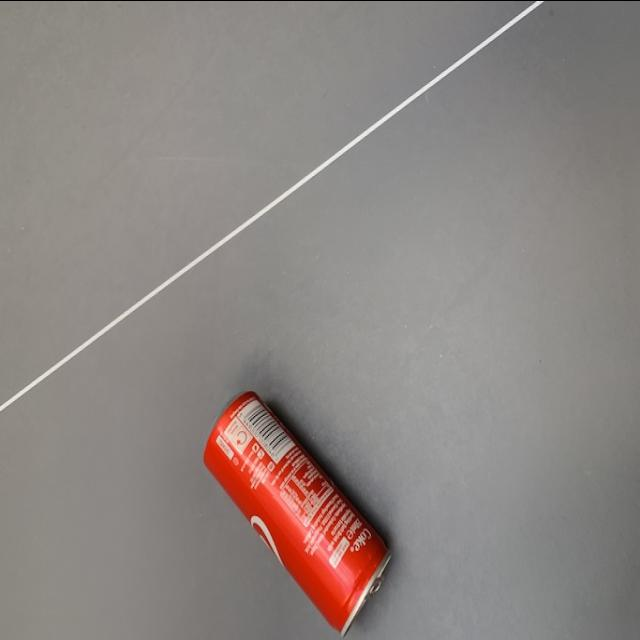litter: (204, 382, 400, 634)
